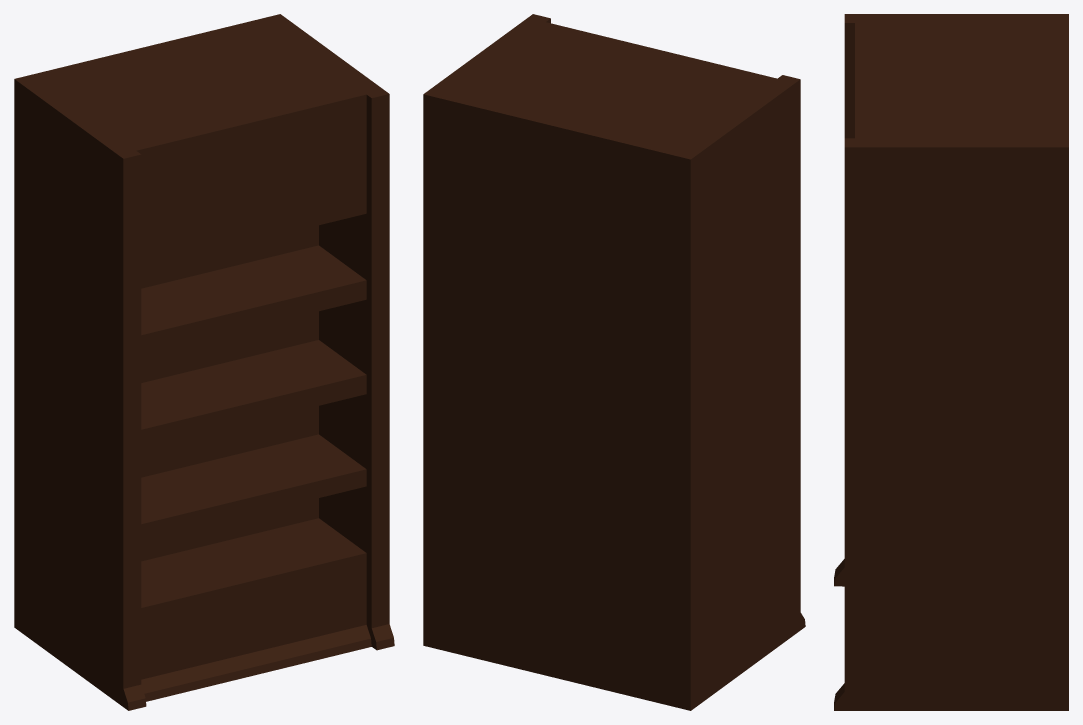
File: F_bossromm_bookshelf.fbx
3 renders of one model, left to right at view 1: azimuth 30°, elevation 25°; view 2: azimuth 150°, elevation 25°; view 3: azimuth 270°, elevation 25°, orthographic. The views are drawn at different scales.
Visible parts, largest first — view 1: bookshelf; view 2: bookshelf; view 3: bookshelf.
Boxes of the visible parts, x1,y1,x2,y2 form: bookshelf: (14, 14, 394, 710); bookshelf: (423, 14, 805, 710); bookshelf: (834, 14, 1068, 710).
Size of the model in its own units: 117 by 230 by 86.69.
